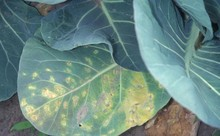damaged_cabbage: (10, 3, 216, 136)
